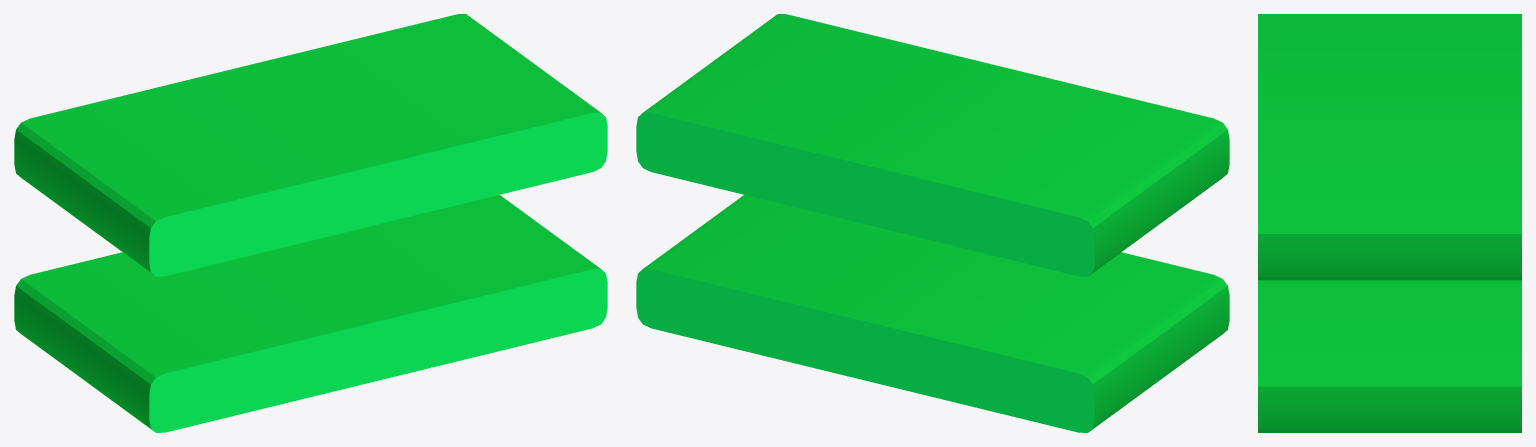
File: d3e0936e-4276-418d-b59f-4d23678bfe3c.glb
3 views of the same model, side by side, from view 1: azimuth 30°, elevation 25°; view 2: azimuth 150°, elevation 25°; view 3: azimuth 270°, elevation 25° (orthographic). The views are drawn at different scales.
Parts seen in each view (by area): view 1: =_Soul_Green; view 2: =_Soul_Green; view 3: =_Soul_Green.
Part boxes in pixels (left/top/right/bottom): =_Soul_Green: left=14, top=14, right=607, bottom=432; =_Soul_Green: left=636, top=14, right=1229, bottom=432; =_Soul_Green: left=1258, top=14, right=1521, bottom=432.
Size of what is drawn, in the model's own units: 0.0882 by 0.0396 by 0.045.
2 materials, 2 textured.
